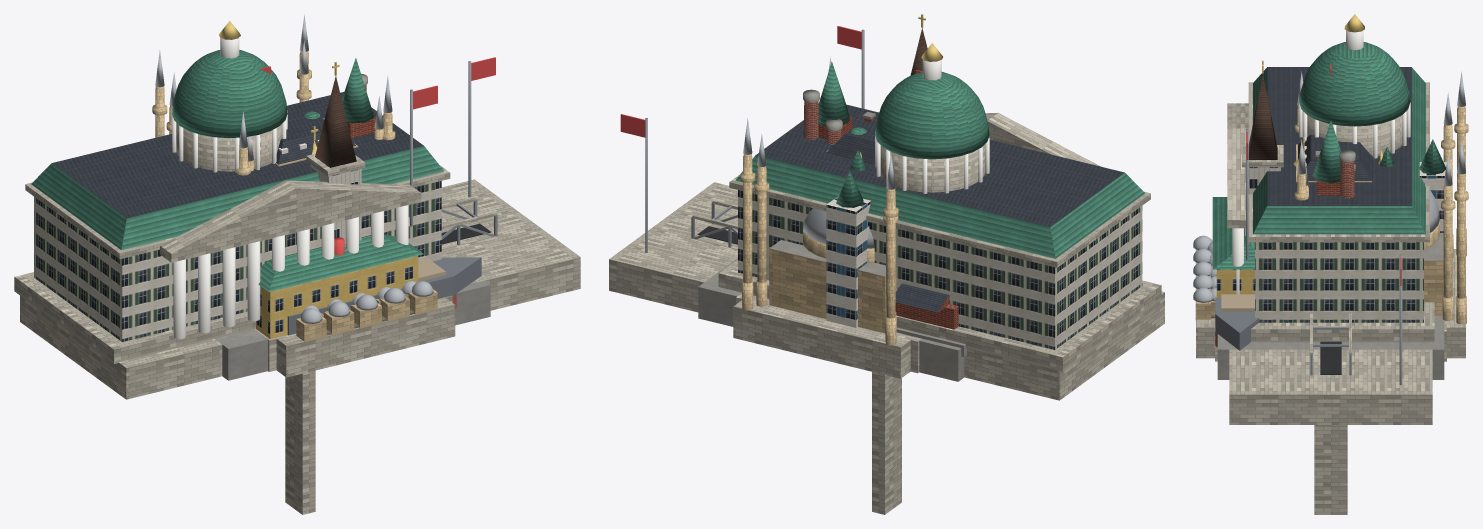
The model's file is buildings.glb.
3 renders of one model, left to right at view 1: azimuth 30°, elevation 25°; view 2: azimuth 150°, elevation 25°; view 3: azimuth 270°, elevation 25°, orthographic. The views are drawn at different scales.
Visible parts, largest first — view 1: west_landmark_0, orient_landmark_0, east_landmark_0, port_0, bridge_span, nordic_church_0, west_block_5, orient_church_0, nordic_landmark_0; view 2: west_landmark_0, orient_landmark_0, east_landmark_0, port_0, bridge_span, orient_church_0, nordic_landmark_0, west_block_5, east_factory_0; view 3: west_landmark_0, orient_landmark_0, port_0, east_landmark_0, bridge_span, orient_church_0, nordic_church_0, nordic_landmark_0, west_block_5, east_factory_0.
Part boxes in pixels (left/top/right/bottom): west_landmark_0: left=14, top=21, right=580, bottom=399; orient_landmark_0: left=152, top=14, right=455, bottom=377; east_landmark_0: left=247, top=85, right=452, bottom=371; port_0: left=215, top=237, right=490, bottom=380; bridge_span: left=285, top=197, right=497, bottom=514; nordic_church_0: left=306, top=62, right=365, bottom=244; west_block_5: left=276, top=109, right=355, bottom=164; orient_church_0: left=166, top=41, right=439, bottom=317; nordic_landmark_0: left=260, top=58, right=375, bottom=138; west_landmark_0: left=609, top=43, right=1164, bottom=400; orient_landmark_0: left=733, top=57, right=910, bottom=378; east_landmark_0: left=736, top=26, right=921, bottom=373; port_0: left=698, top=258, right=966, bottom=381; bridge_span: left=691, top=200, right=901, bottom=514; orient_church_0: left=753, top=133, right=901, bottom=339; nordic_landmark_0: left=818, top=61, right=922, bottom=139; west_block_5: left=826, top=112, right=877, bottom=164; east_factory_0: left=803, top=89, right=842, bottom=144; west_landmark_0: left=1227, top=14, right=1434, bottom=424; orient_landmark_0: left=1193, top=71, right=1468, bottom=358; port_0: left=1215, top=274, right=1444, bottom=379; east_landmark_0: left=1212, top=128, right=1446, bottom=361; bridge_span: left=1310, top=313, right=1351, bottom=514; orient_church_0: left=1207, top=93, right=1455, bottom=323; nordic_church_0: left=1242, top=60, right=1283, bottom=235; nordic_landmark_0: left=1312, top=64, right=1340, bottom=195; west_block_5: left=1298, top=134, right=1372, bottom=182; east_factory_0: left=1339, top=150, right=1355, bottom=198.
Size of the model in its own units: 2.5 by 2.54 by 1.35.
Materials: 34 (22 with a texture image).
